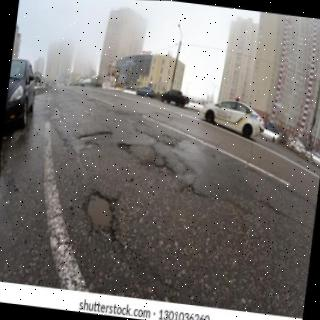pothole: (84, 192, 115, 230), (83, 127, 112, 136)
